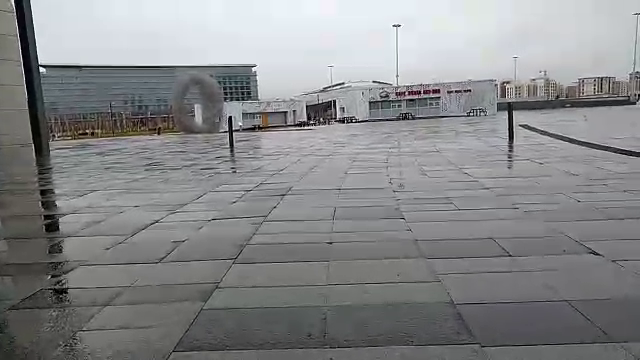kebab: (363, 83, 477, 118)
